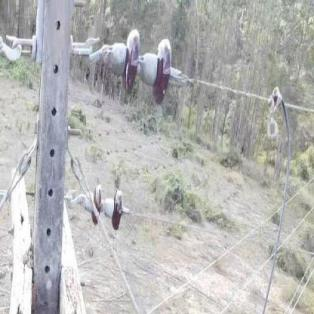Poste: (22, 1, 82, 313)
